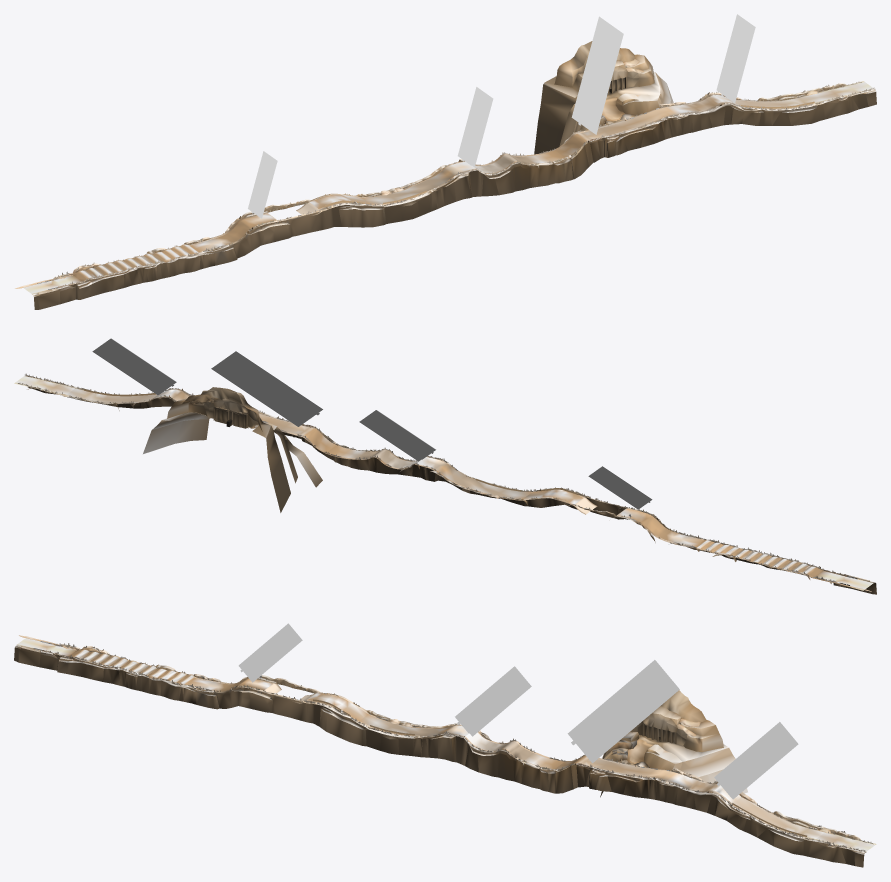
Rendered from Desert_06.fbx.
3 views of the same model, one above another, from view 1: azimuth 30°, elevation 25°; view 2: azimuth 150°, elevation 25°; view 3: azimuth 330°, elevation 25° (orthographic).
Visible parts, largest first — view 1: Mountain_01, Ground_01, Light_01, Road_01, Tree_01, Ground_02; view 2: Mountain_01, Light_01, Ground_01, Road_01, Tree_01, Pattern_01; view 3: Mountain_01, Light_01, Ground_01, Tree_01, Road_01, Ground_02.
Part boxes in pixels (<box>): Mountain_01: <box>32,41,876,309</box>; Ground_01: <box>23,82,872,293</box>; Light_01: <box>248,14,755,218</box>; Road_01: <box>31,81,873,294</box>; Tree_01: <box>52,81,875,287</box>; Ground_02: <box>15,59,817,288</box>; Mountain_01: <box>17,375,876,594</box>; Light_01: <box>92,338,652,509</box>; Ground_01: <box>16,376,872,589</box>; Road_01: <box>14,376,873,590</box>; Tree_01: <box>18,373,848,581</box>; Pattern_01: <box>169,388,655,524</box>; Mountain_01: <box>14,644,874,867</box>; Light_01: <box>238,623,798,799</box>; Ground_01: <box>18,638,874,851</box>; Tree_01: <box>41,643,872,852</box>; Road_01: <box>17,640,876,851</box>; Ground_02: <box>19,635,830,833</box>.
Bounding box in the file's own units: 72044 × 11298 × 7847.
